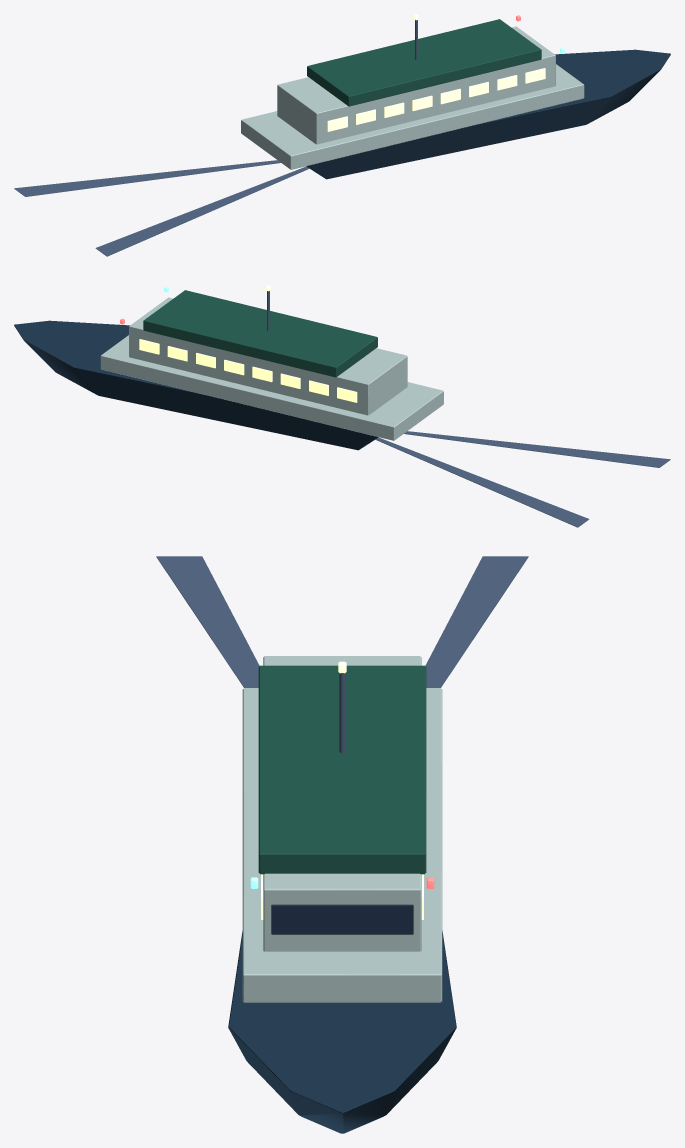
Rendered from harbour_ferry_1.glb.
The picture shows the model from 3 angles, top to bottom: view 1: azimuth 30°, elevation 25°; view 2: azimuth 150°, elevation 25°; view 3: azimuth 270°, elevation 25°; orthographic projection. The views are drawn at different scales.
Visible parts, largest first — view 1: harbour_ferry_1.001; view 2: harbour_ferry_1.001; view 3: harbour_ferry_1.001.
Part boxes in pixels (bbox=[...]): harbour_ferry_1.001: bbox=[14, 14, 670, 256]; harbour_ferry_1.001: bbox=[14, 285, 670, 527]; harbour_ferry_1.001: bbox=[156, 556, 528, 1133].
Size of the model in its own units: 22.08 by 4.44 by 5.83.
